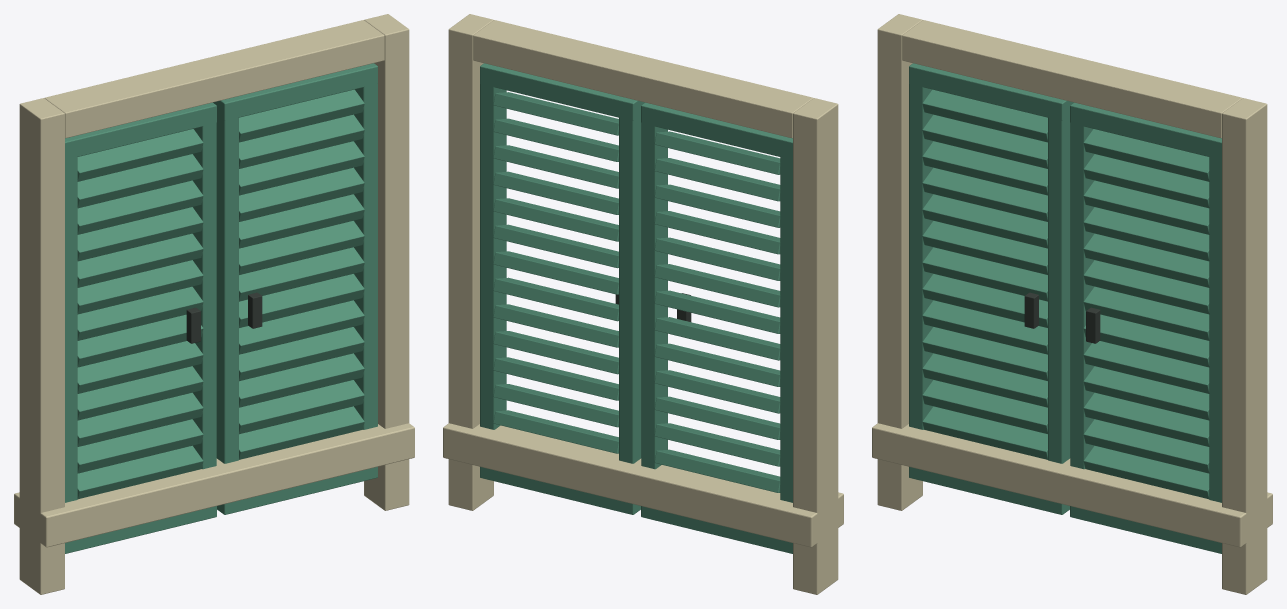
File: source-edit.glb
3 renders of one model, left to right at view 1: azimuth 30°, elevation 25°; view 2: azimuth 150°, elevation 25°; view 3: azimuth 330°, elevation 25°, orthographic.
Visible parts, largest first — view 1: FRAME_Jamb, FRAME_Sill, FRAME_Head, FRAME_Jamb.001, Right_Stile.001, Left_Stile.001, Right_Stile, Left_Stile, Right_Rail.001, Left_Louver_11, Left_Louver_2, Left_Louver_9 (+26 smaller); view 2: FRAME_Jamb, FRAME_Sill, FRAME_Head, FRAME_Jamb.001, Right_Stile.001, Left_Stile.001, Right_Stile, Left_Stile, Right_Rail.001, Left_Rail.001, Left_Louver_12, Left_Louver_10 (+26 smaller); view 3: FRAME_Jamb.001, FRAME_Sill, FRAME_Head, FRAME_Jamb, Left_Stile.001, Right_Stile.001, Left_Stile, Right_Stile, Left_Rail.001, Right_Rail.001, Right_Louver_11, Right_Louver_2 (+26 smaller).
Part boxes in pixels (x1,y1,x2,y2): FRAME_Jamb: [19, 98, 64, 594]; FRAME_Sill: [14, 423, 414, 547]; FRAME_Head: [44, 20, 384, 138]; FRAME_Jamb.001: [364, 14, 409, 510]; Right_Stile.001: [213, 101, 238, 513]; Left_Stile.001: [192, 107, 216, 519]; Right_Stile: [354, 75, 377, 479]; Left_Stile: [65, 141, 77, 549]; Right_Rail.001: [220, 63, 377, 120]; Left_Louver_11: [77, 180, 203, 234]; Left_Louver_2: [77, 419, 203, 473]; Left_Louver_9: [77, 233, 203, 287]; FRAME_Jamb: [793, 98, 838, 594]; FRAME_Sill: [443, 423, 843, 547]; FRAME_Head: [473, 20, 813, 138]; FRAME_Jamb.001: [448, 14, 493, 510]; Right_Stile.001: [619, 101, 644, 513]; Left_Stile.001: [641, 107, 667, 519]; Right_Stile: [480, 72, 506, 479]; Left_Stile: [780, 143, 792, 502]; Right_Rail.001: [480, 63, 637, 120]; Left_Rail.001: [641, 102, 792, 159]; Left_Louver_12: [654, 158, 780, 201]; Left_Louver_10: [654, 211, 780, 254]; FRAME_Jamb.001: [1222, 98, 1267, 594]; FRAME_Sill: [872, 423, 1272, 547]; FRAME_Head: [902, 20, 1242, 138]; FRAME_Jamb: [877, 14, 922, 510]; Left_Stile.001: [1048, 101, 1073, 513]; Right_Stile.001: [1070, 107, 1094, 519]; Left_Stile: [909, 72, 932, 479]; Right_Stile: [1209, 143, 1221, 502]; Left_Rail.001: [909, 63, 1066, 120]; Right_Rail.001: [1070, 102, 1221, 159]; Right_Louver_11: [1083, 180, 1209, 234]; Right_Louver_2: [1083, 419, 1209, 473].
Size of the model in its own units: 1.5 by 1.85 by 0.23.
